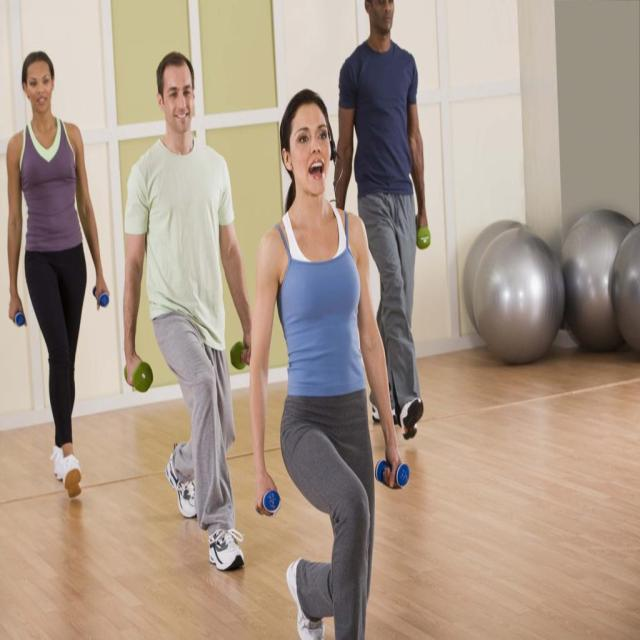Face: (290, 98, 334, 195), (163, 59, 197, 134), (23, 52, 59, 114)
